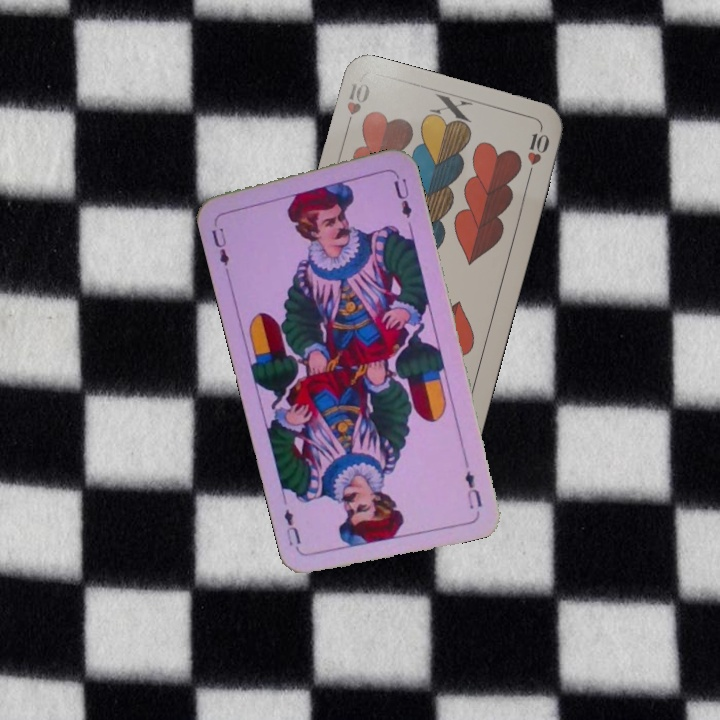EU: (207, 223, 232, 276), (461, 467, 485, 512)
H10: (340, 79, 373, 135)
